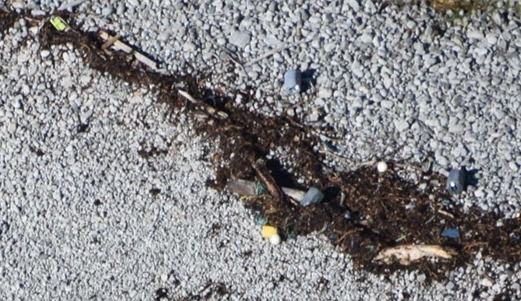straight_bar: (365, 234, 456, 270), (97, 25, 162, 70), (177, 85, 227, 118)
together_barrel: (220, 152, 328, 247)
white_in_green: (264, 56, 328, 112), (422, 150, 486, 206), (35, 2, 82, 48), (246, 212, 296, 254), (360, 143, 406, 187), (429, 209, 475, 253)
